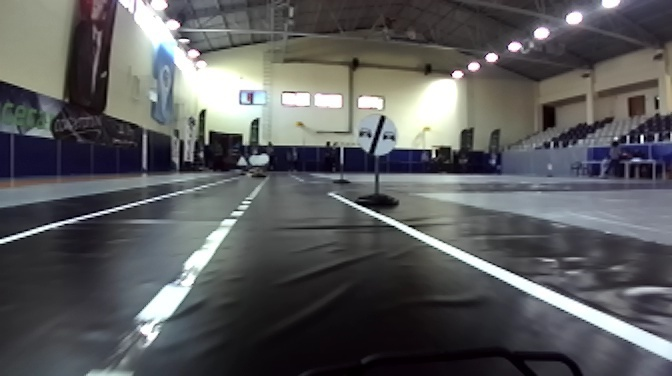sollama_serbest: (356, 113, 401, 157)
